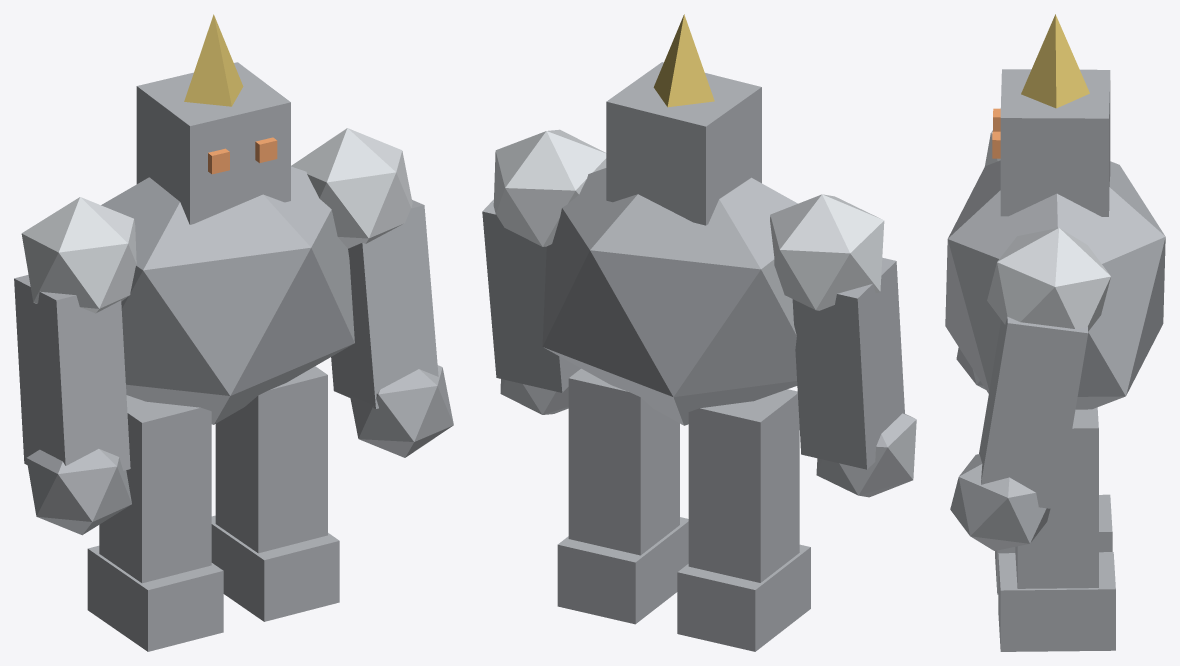
File: npcpose_golem_idle_03.glb
3 views of the same model, side by side, from view 1: azimuth 30°, elevation 25°; view 2: azimuth 150°, elevation 25°; view 3: azimuth 270°, elevation 25° (orthographic).
Visible parts, largest first — view 1: npcpose; view 2: npcpose; view 3: npcpose.
Boxes of the visible parts, x1,y1,x2,y2 form: npcpose: (14, 14, 453, 651); npcpose: (482, 14, 916, 651); npcpose: (945, 14, 1165, 651).
Bounding box in the file's own units: 1.38 × 1.92 × 0.6498.
